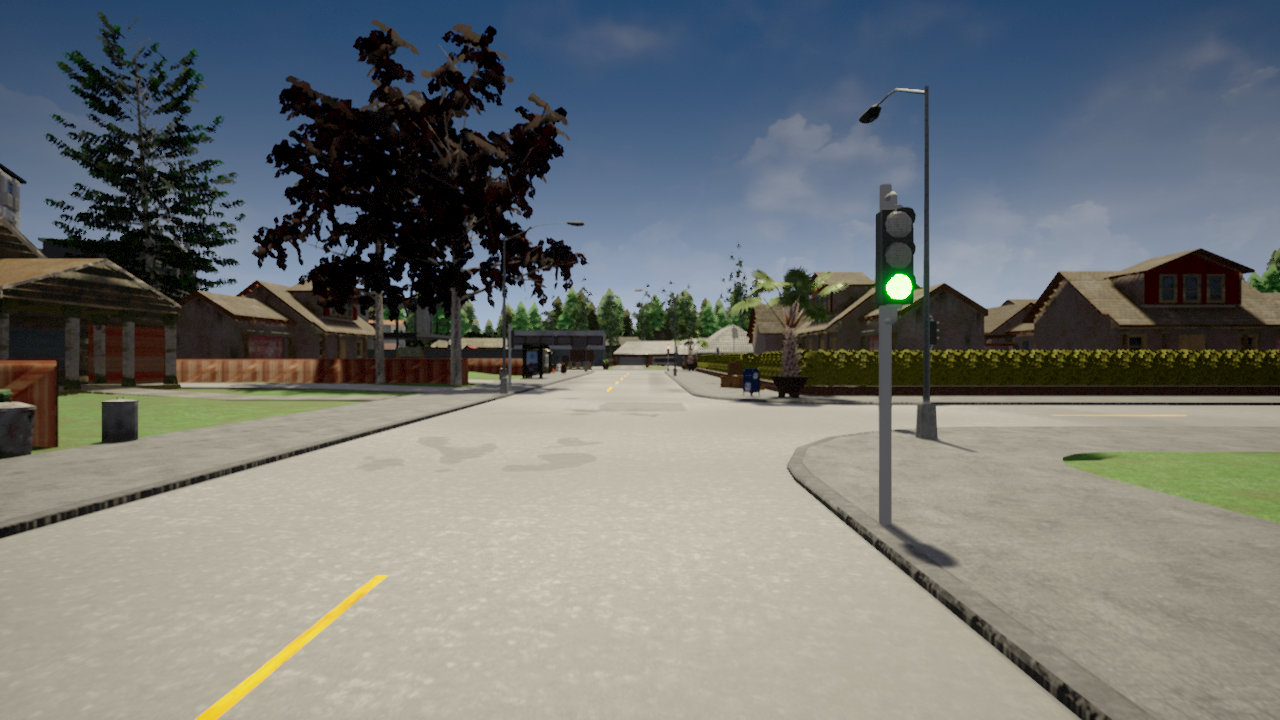green: (872, 205, 917, 305)
